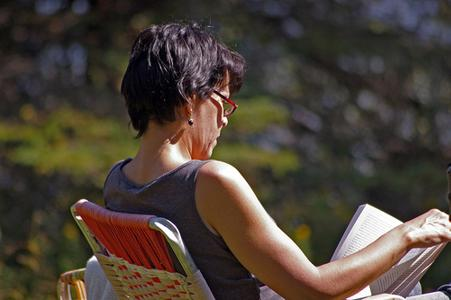person: (101, 21, 451, 300)
